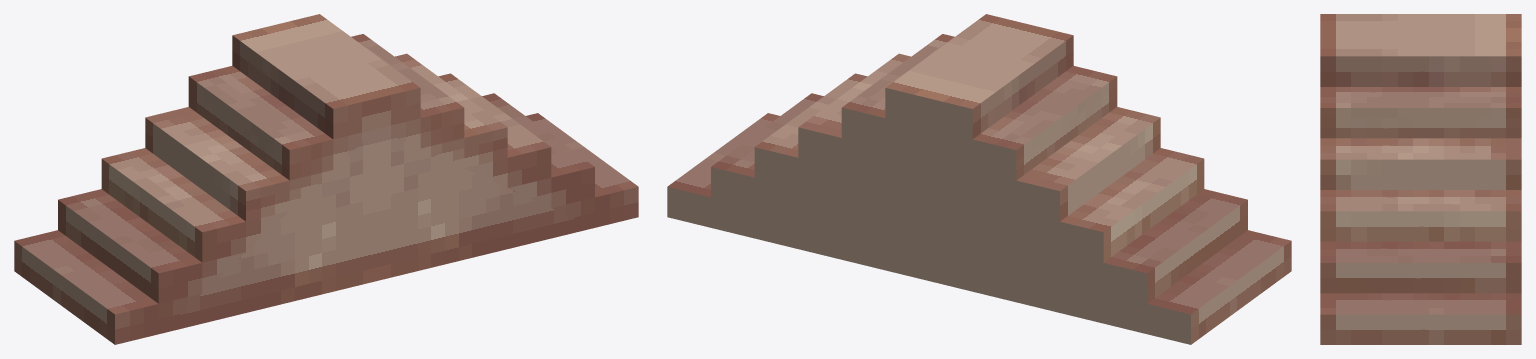
File: m_stairs.fbx
3 views of the same model, side by side, from view 1: azimuth 30°, elevation 25°; view 2: azimuth 150°, elevation 25°; view 3: azimuth 270°, elevation 25° (orthographic).
Parts seen in each view (by area): view 1: Cube.015; view 2: Cube.015; view 3: Cube.015.
Boxes of the visible parts, bbox=[...] form: Cube.015: bbox=[14, 14, 638, 344]; Cube.015: bbox=[667, 14, 1291, 344]; Cube.015: bbox=[1320, 14, 1521, 344].
Bounding box in the file's own units: 1200 × 400 × 400.
Materials: 1 (1 with a texture image).
